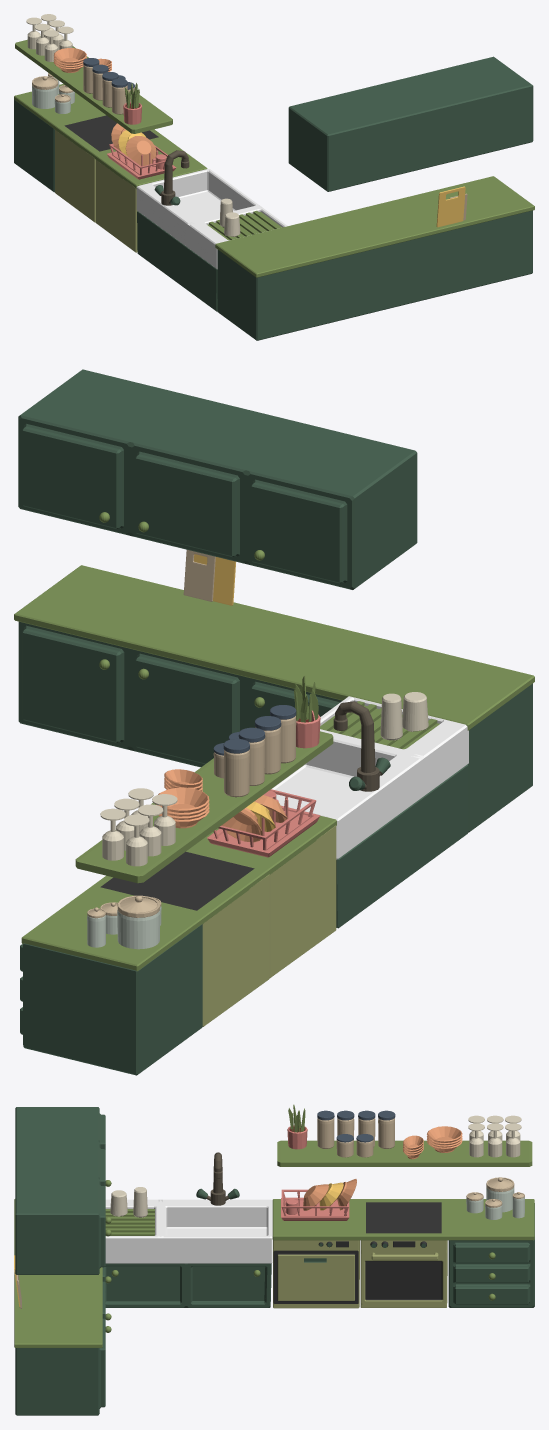
The model's file is Kitchen_Counter.fbx.
The picture shows the model from 3 angles, top to bottom: view 1: azimuth 30°, elevation 25°; view 2: azimuth 150°, elevation 25°; view 3: azimuth 270°, elevation 25°; orthographic projection. The views are drawn at different scales.
Visible parts, largest first — view 1: Kitchen_Counter.010, Kitchen_Counter.009, Kitchen_Counter.016, Kitchen_Counter.015, Kitchen_Counter.020, Kitchen_Counter.017, Kitchen_Counter.019, Kitchen_Counter.013, Kitchen_Counter.022, Kitchen_Counter.007, Kitchen_Counter.001, Kitchen_Counter.011 (+4 smaller); view 2: Kitchen_Counter.010, Kitchen_Counter.009, Kitchen_Counter.015, Kitchen_Counter.016, Kitchen_Counter.013, Kitchen_Counter.017, Kitchen_Counter.019, Kitchen_Counter.020, Kitchen_Counter.022, Kitchen_Counter.001, Kitchen_Counter, Kitchen_Counter.011 (+4 smaller); view 3: Kitchen_Counter.010, Kitchen_Counter.009, Kitchen_Counter.016, Kitchen_Counter.015, Kitchen_Counter.013, Kitchen_Counter.019, Kitchen_Counter.020, Kitchen_Counter.017, Kitchen_Counter.022, Kitchen_Counter.014, Kitchen_Counter.001, Kitchen_Counter.018 (+4 smaller).
Part boxes in pixels (x1,y1,x2,y2): Kitchen_Counter.010: [14, 56, 533, 340]; Kitchen_Counter.009: [14, 36, 534, 277]; Kitchen_Counter.016: [136, 169, 287, 269]; Kitchen_Counter.015: [55, 130, 137, 252]; Kitchen_Counter.020: [53, 48, 156, 165]; Kitchen_Counter.017: [26, 14, 73, 61]; Kitchen_Counter.019: [83, 64, 134, 114]; Kitchen_Counter.013: [64, 115, 158, 151]; Kitchen_Counter.022: [107, 143, 176, 179]; Kitchen_Counter.007: [436, 186, 465, 227]; Kitchen_Counter.001: [32, 76, 74, 113]; Kitchen_Counter.011: [159, 150, 189, 205]; Kitchen_Counter.010: [18, 369, 532, 1075]; Kitchen_Counter.009: [14, 512, 534, 971]; Kitchen_Counter.015: [202, 825, 336, 1026]; Kitchen_Counter.016: [271, 696, 468, 859]; Kitchen_Counter.013: [100, 851, 254, 910]; Kitchen_Counter.017: [100, 788, 177, 866]; Kitchen_Counter.019: [213, 716, 296, 797]; Kitchen_Counter.020: [156, 769, 287, 842]; Kitchen_Counter.022: [207, 789, 320, 857]; Kitchen_Counter.001: [87, 906, 161, 949]; Kitchen_Counter: [380, 692, 428, 740]; Kitchen_Counter.011: [333, 701, 382, 791]; Kitchen_Counter.010: [15, 1107, 534, 1415]; Kitchen_Counter.009: [14, 1140, 534, 1347]; Kitchen_Counter.016: [105, 1199, 272, 1263]; Kitchen_Counter.015: [273, 1240, 447, 1308]; Kitchen_Counter.013: [318, 1202, 442, 1300]; Kitchen_Counter.019: [317, 1118, 394, 1157]; Kitchen_Counter.020: [303, 1126, 462, 1210]; Kitchen_Counter.017: [468, 1115, 521, 1157]; Kitchen_Counter.022: [281, 1189, 349, 1220]; Kitchen_Counter.014: [273, 1241, 358, 1303]; Kitchen_Counter.001: [466, 1186, 524, 1219]; Kitchen_Counter.018: [317, 1110, 395, 1142].
Size of the model in its own units: 481 by 206 by 318.
